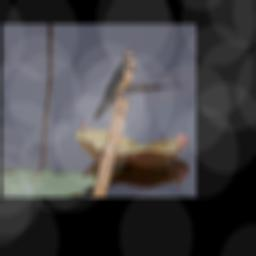Swallow: (92, 51, 136, 123)
